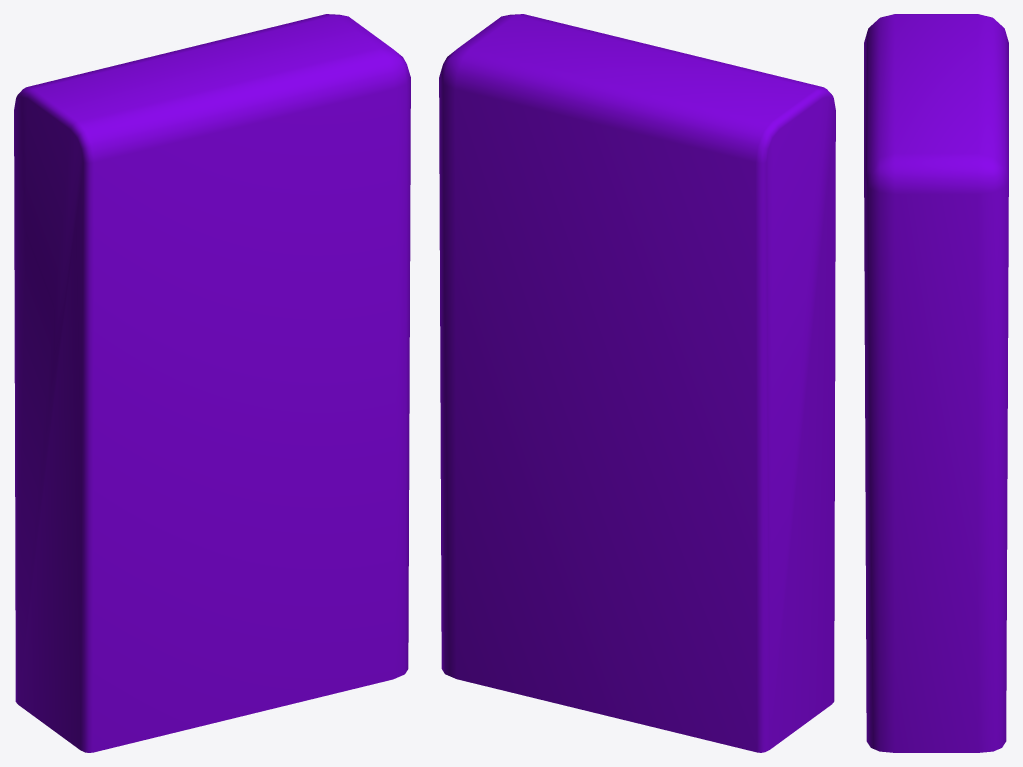
File: GateR.fbx
The picture shows the model from 3 angles, left to right: view 1: azimuth 30°, elevation 25°; view 2: azimuth 150°, elevation 25°; view 3: azimuth 270°, elevation 25°; orthographic projection. The views are drawn at different scales.
Visible parts, largest first — view 1: GateR; view 2: GateR; view 3: GateR.
Part boxes in pixels (x1,y1,x2,y2): GateR: [14, 14, 410, 752]; GateR: [439, 14, 835, 752]; GateR: [864, 14, 1008, 752].
Size of the model in its own units: 36.05 by 63.7 by 14.22.
